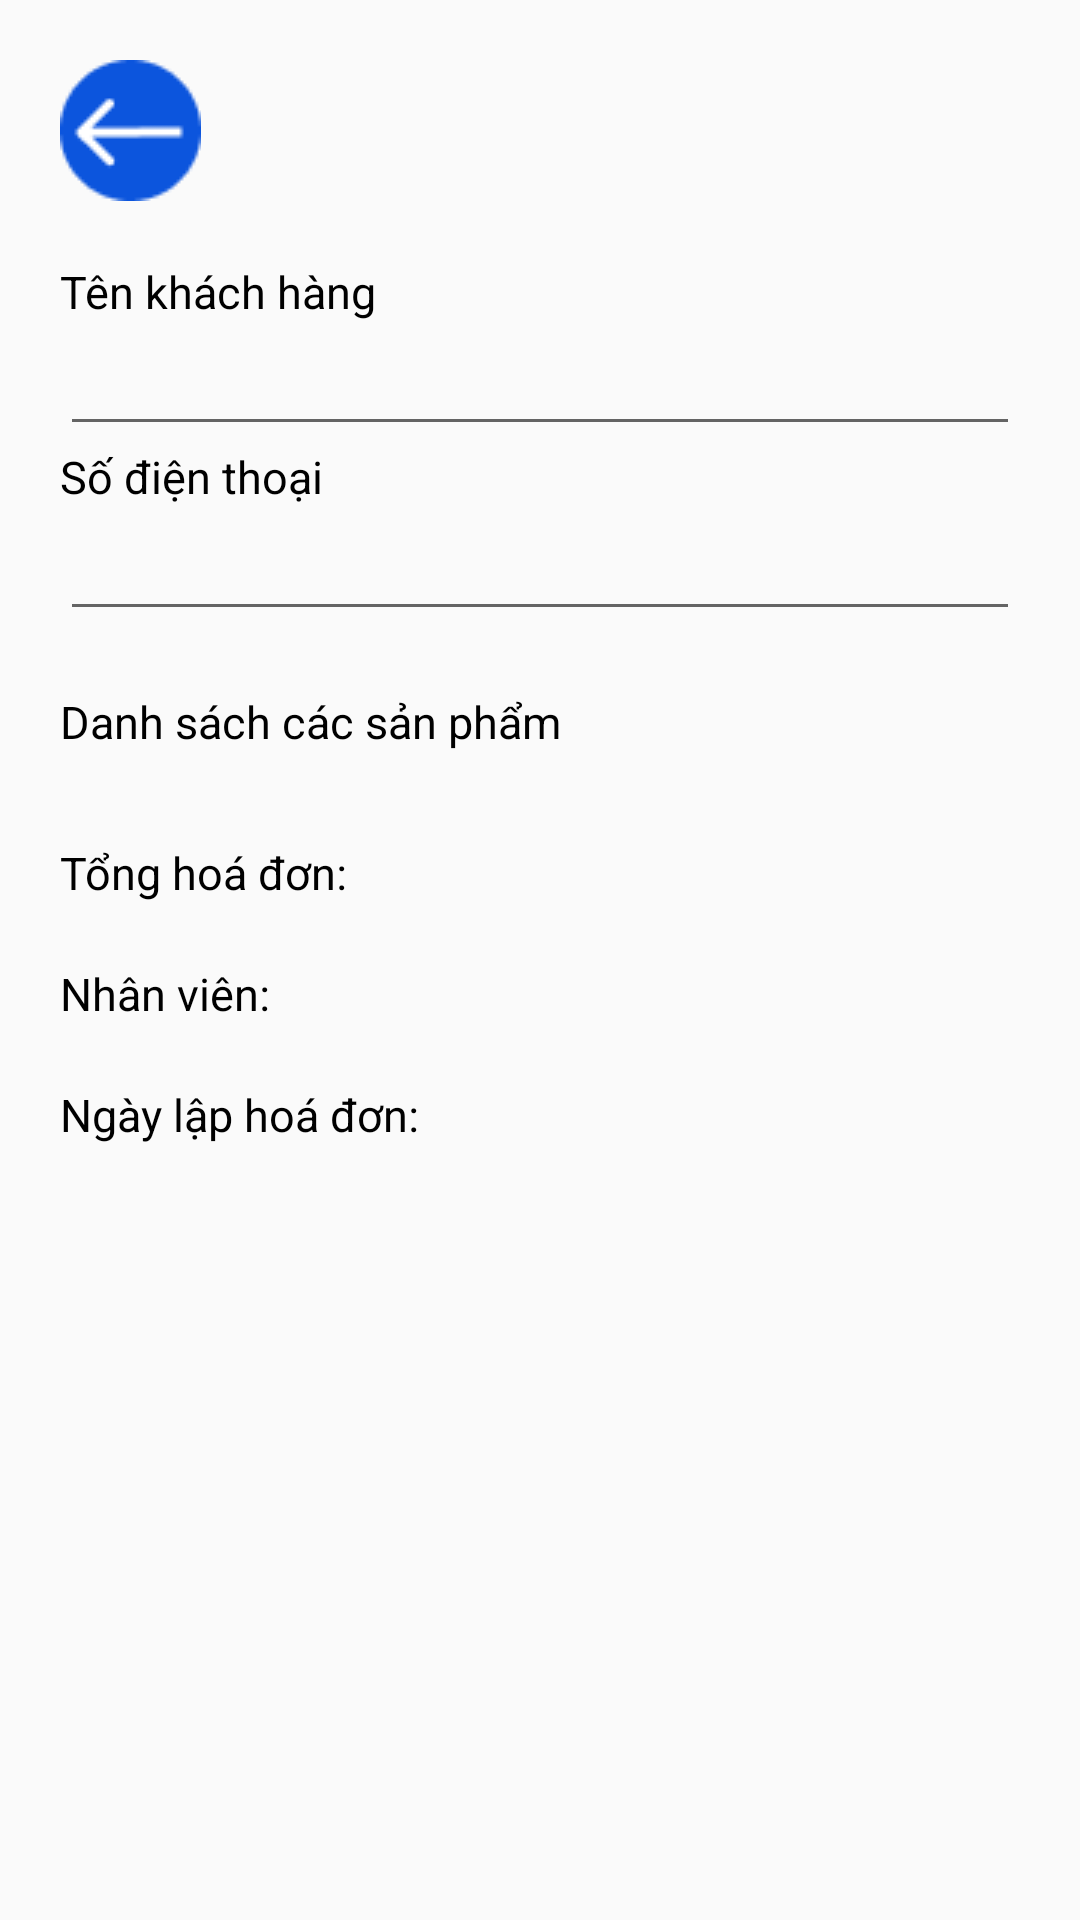

Icon bounding boxes for this 1080 × 1920 phone screenshot, format (x1=x1, y1=y1, x2=x2, y2=y2):
back: (x1=60, y1=60, x2=201, y2=201)
